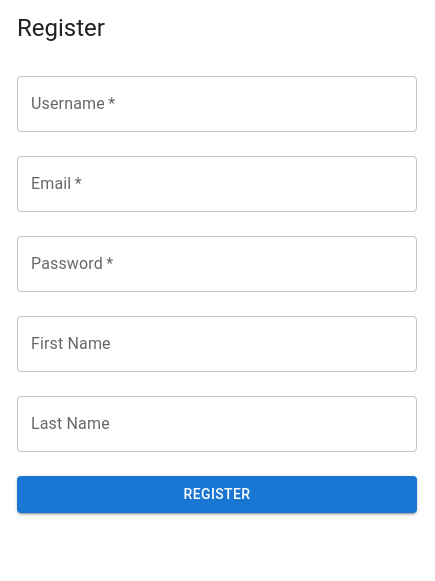
it: UserRegisterForm (integration) › shows error on duplicate registration
Type "sherif" into the field labelled "Username *" at (217, 104), box [17,76,417,132]
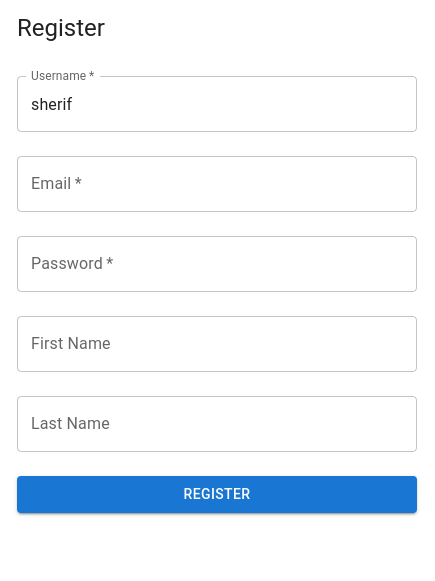
Type "sherif@example.com" into the field labelled "Email *" at (217, 184), box [17,156,417,212]
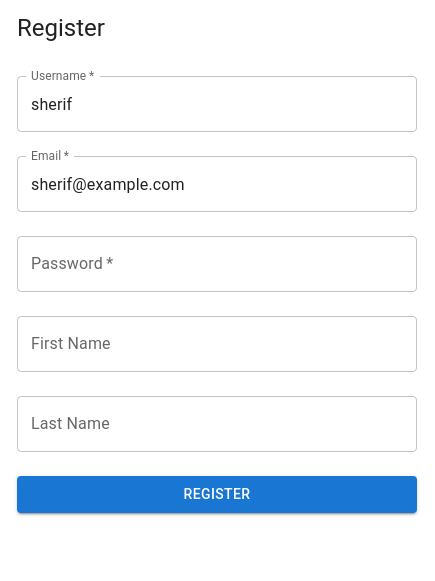
Type "pass1234" into the password field labelled "Password *" at (217, 264), box [17,236,417,292]
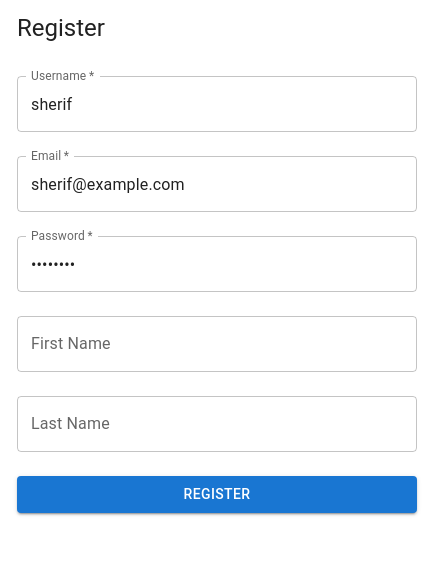
Click the button "Register" at (217, 494), box [17,476,417,512]
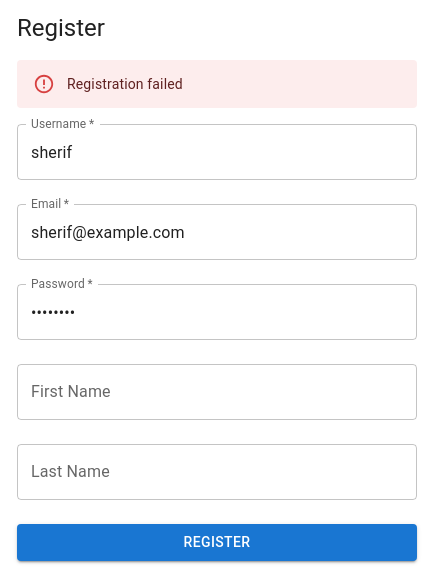
Expected: the message "Registration failed" is shown, [17,60,417,108]
